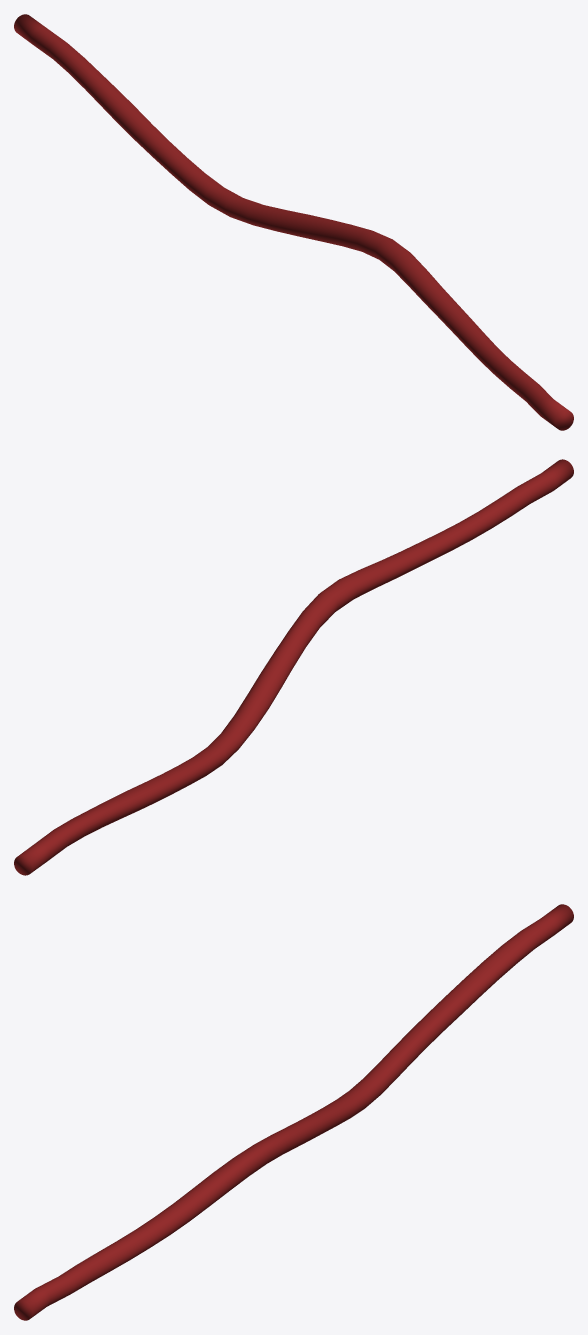
Rendered from Fiber2.fbx.
3 renders of one model, top to bottom at view 1: azimuth 30°, elevation 25°; view 2: azimuth 150°, elevation 25°; view 3: azimuth 330°, elevation 25°, orthographic.
Visible parts, largest first — view 1: NerveFiber2; view 2: NerveFiber2; view 3: NerveFiber2.
Part boxes in pixels (x1,y1,x2,y2): NerveFiber2: (14,14,573,430); NerveFiber2: (14,459,573,875); NerveFiber2: (14,904,573,1320).
Size of the model in its own units: 1155 by 1301 by 20000.
